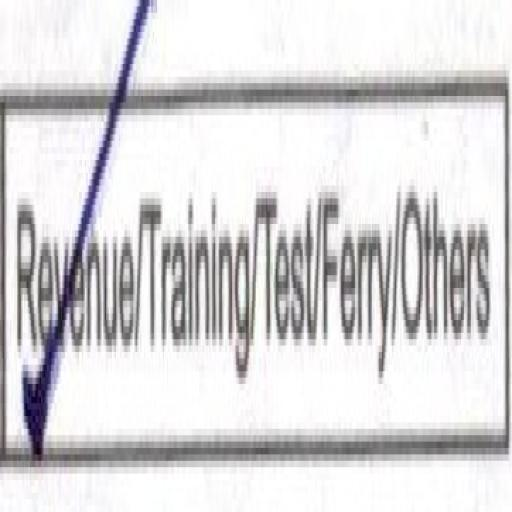check: (2, 0, 140, 497)
